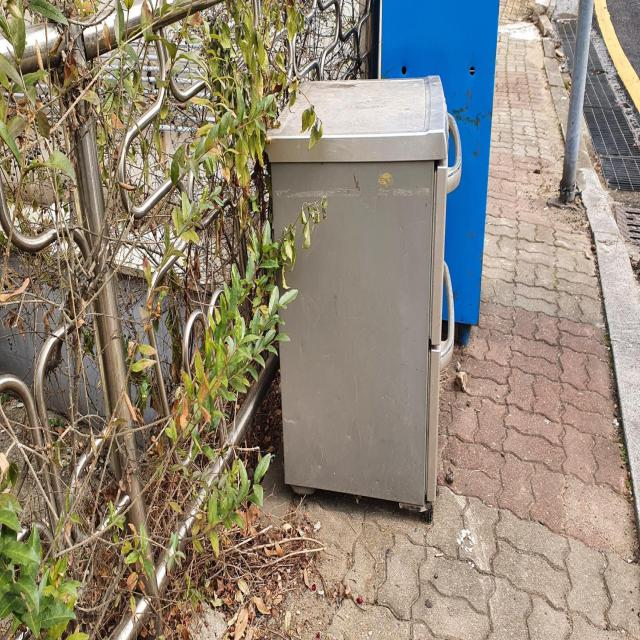refrigerator: (262, 72, 464, 530)
